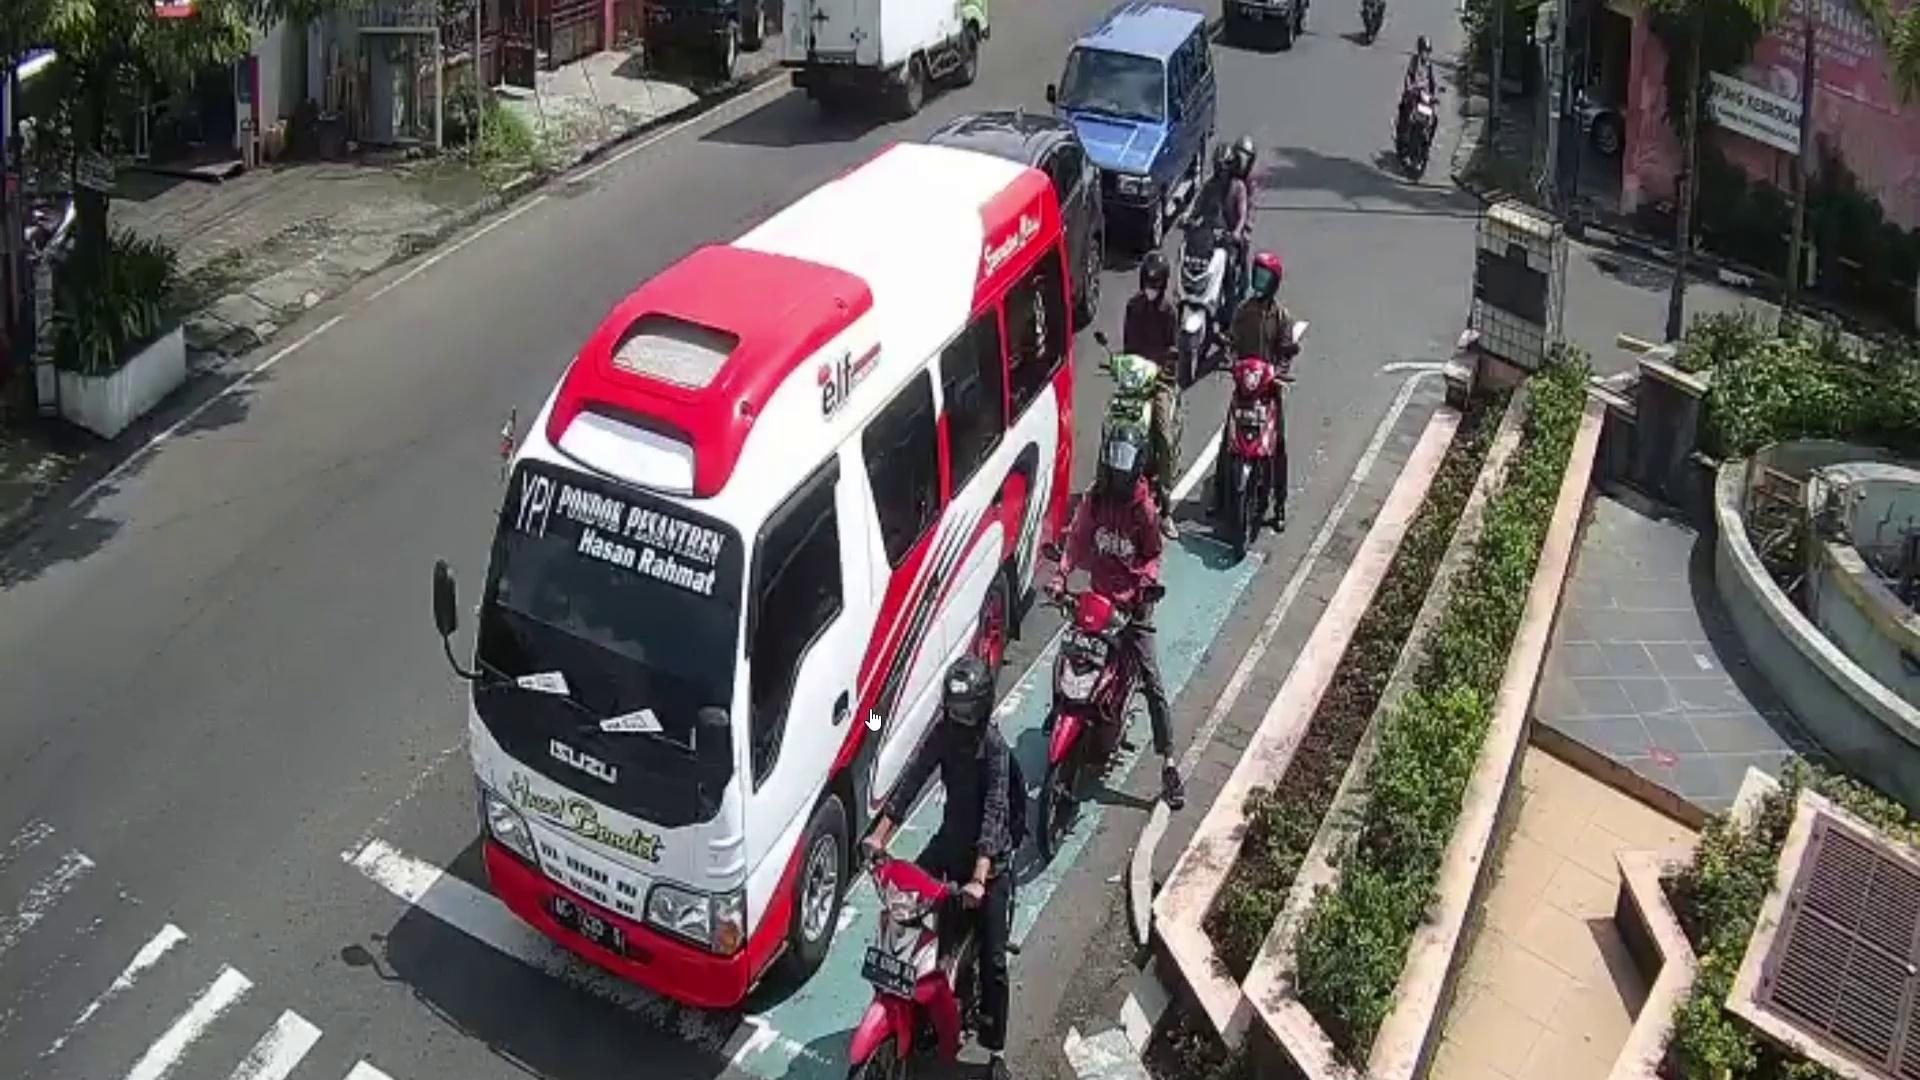bus: (471, 138, 1073, 1002)
car: (1052, 0, 1221, 244), (938, 105, 1110, 310)
motorbike: (856, 847, 997, 1080), (1047, 585, 1138, 848), (1089, 353, 1170, 526), (1228, 365, 1280, 555), (1180, 233, 1224, 385), (1399, 90, 1435, 177)
truck: (777, 0, 992, 120)
